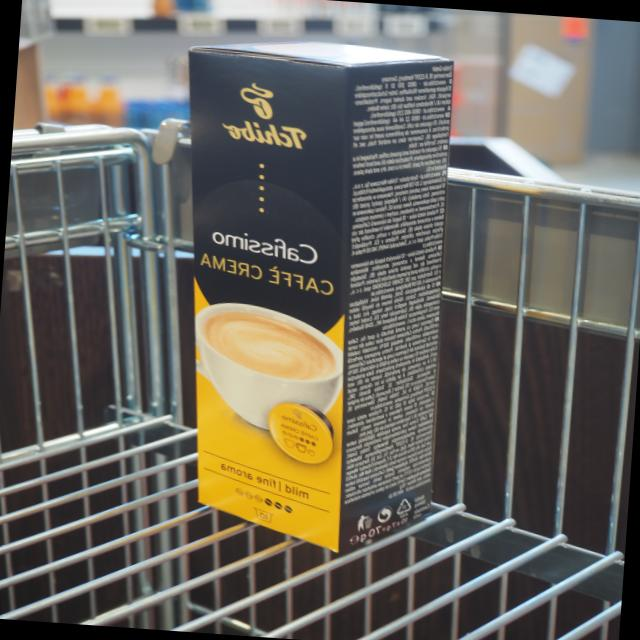Simo CCMild bigpack: (178, 44, 362, 562)
